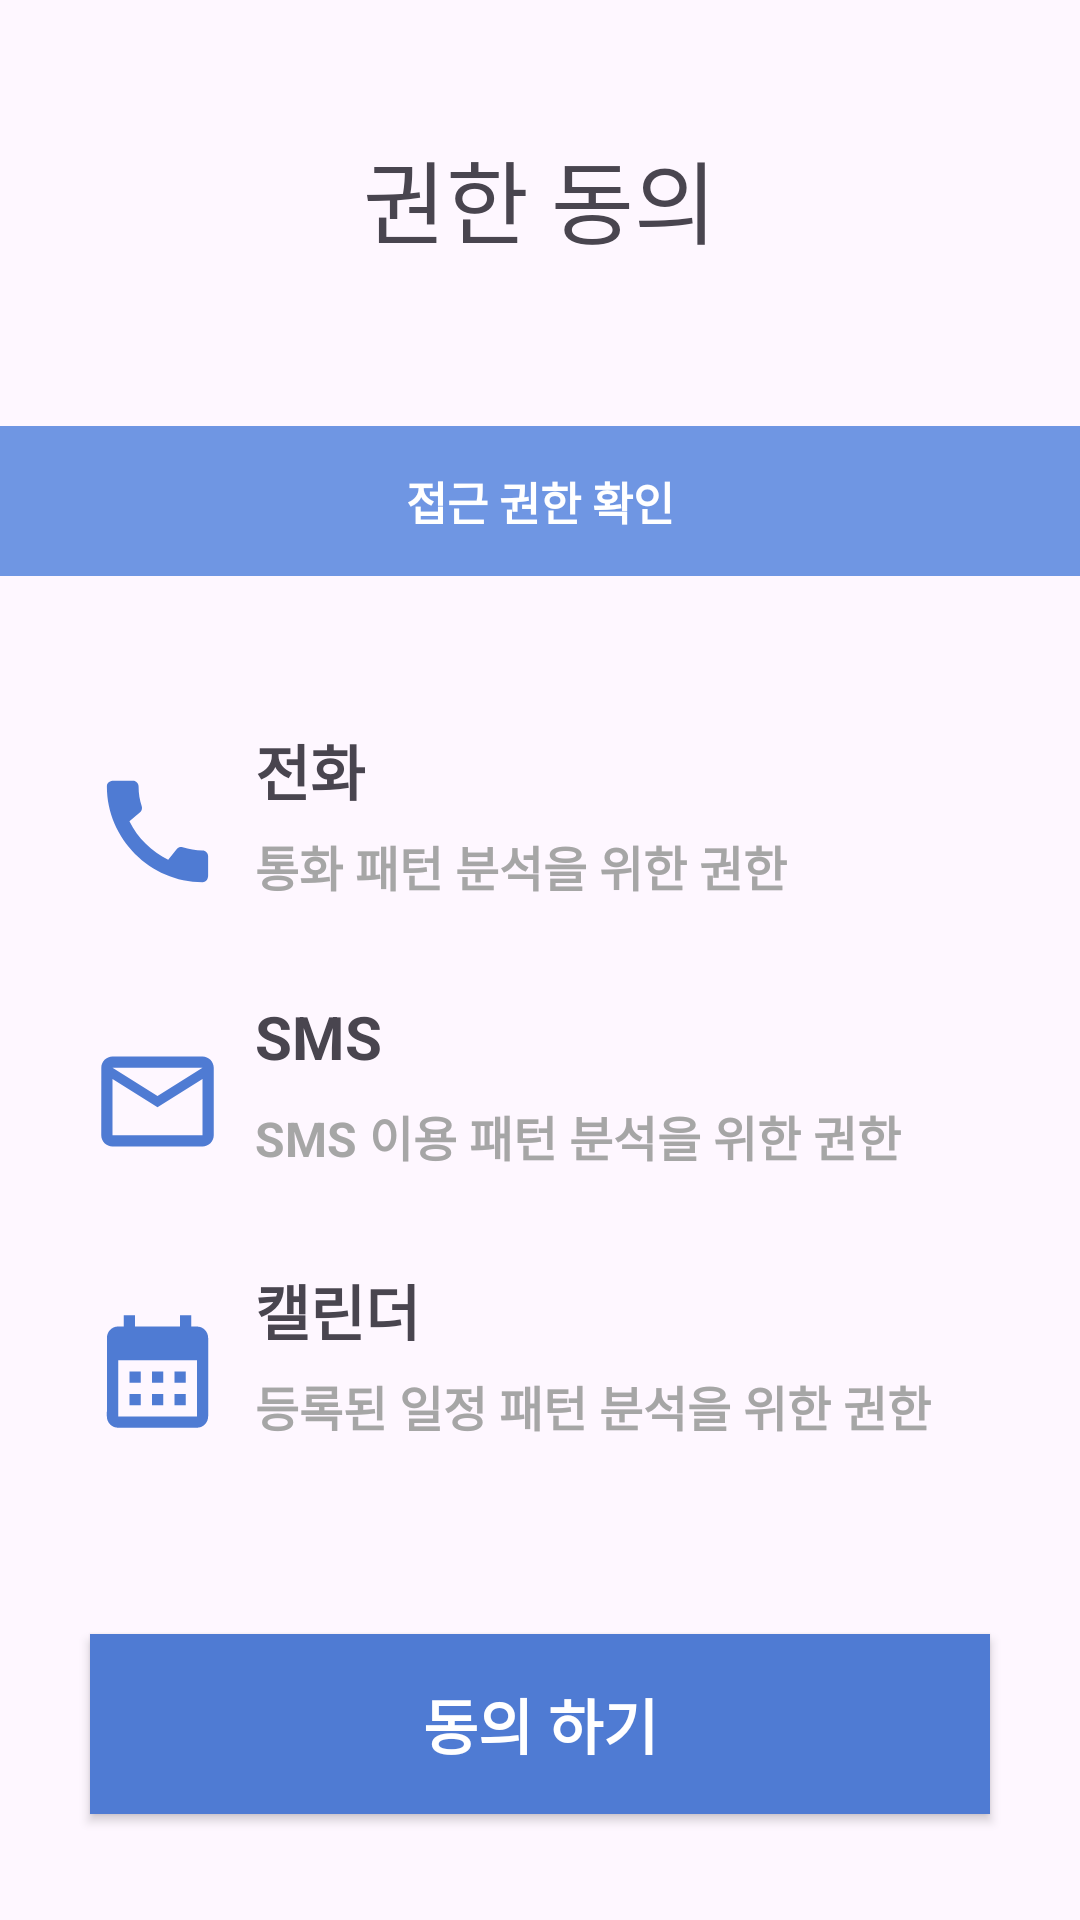

Where to tap for icons on this 1080x1920 app screen, as (x=x, y=y):
calendar month: (x=157, y=1371)
call: (x=157, y=831)
mail: (x=157, y=1101)
